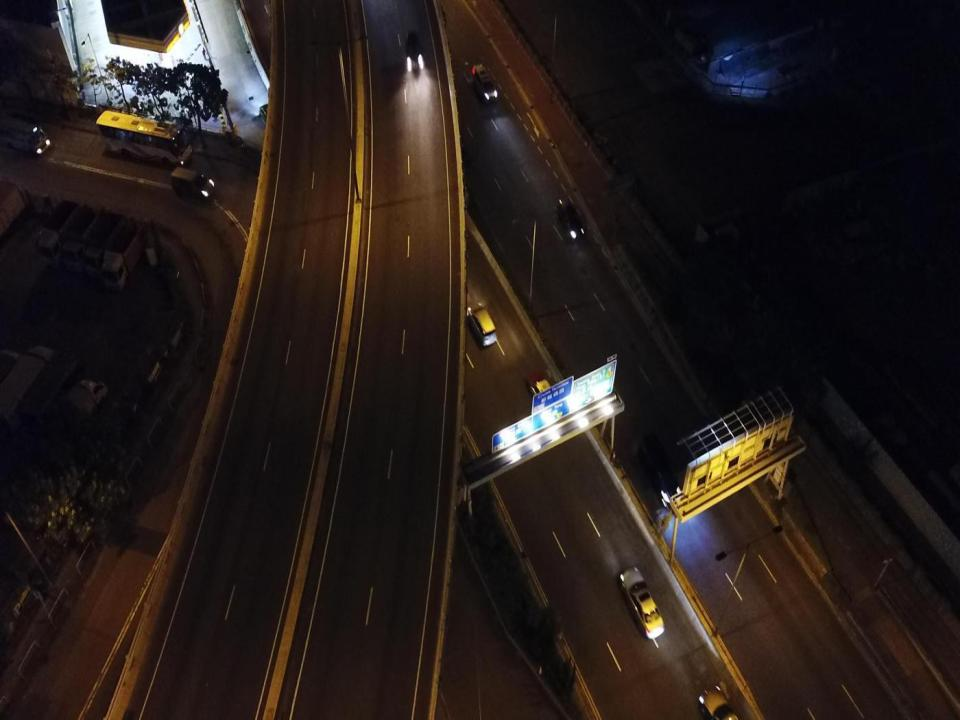bus: (95, 110, 192, 169)
car: (618, 563, 664, 638), (526, 370, 565, 425), (557, 198, 585, 242), (402, 29, 426, 74), (472, 61, 498, 100), (258, 104, 278, 133)
truck: (2, 343, 53, 431), (25, 359, 77, 438), (56, 375, 108, 444), (103, 214, 147, 295), (36, 196, 76, 265), (84, 209, 123, 279), (63, 206, 102, 276)
van: (638, 436, 686, 509), (0, 117, 51, 157), (168, 165, 214, 205), (467, 297, 498, 349)
